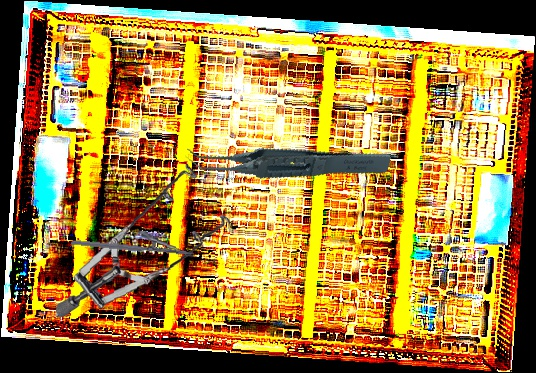Needle Holder: (71, 222, 196, 259)
Speculum: (44, 160, 237, 318)
Tissue Forceps: (183, 102, 392, 216)
